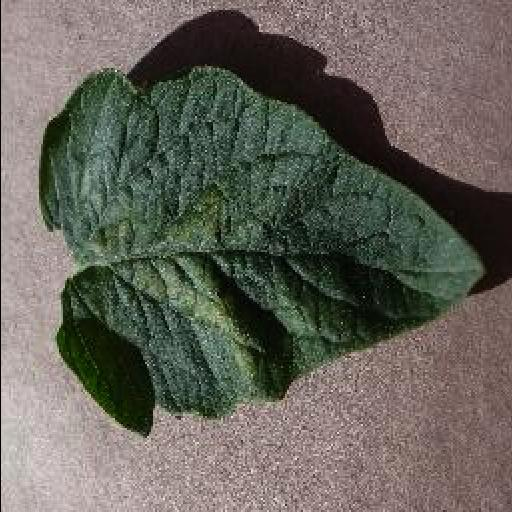disease_tomato: (38, 66, 484, 438)
